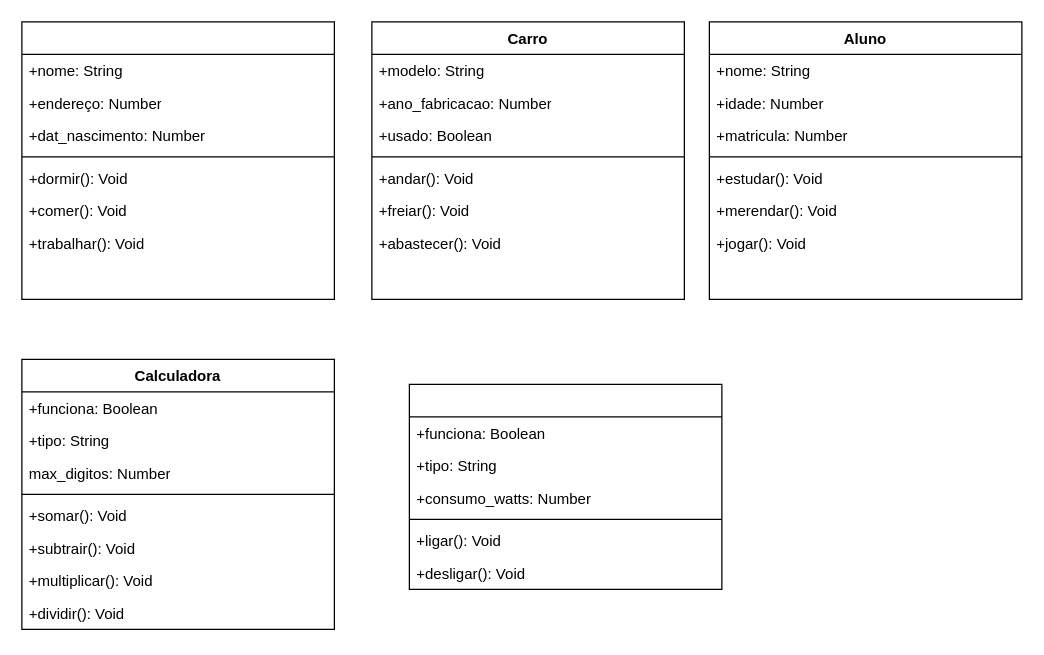
The diagram is 1044 pixels wide and 655 high, and some of its shapes have lost their labels. Each missing label, with the box of its shape:
Lâmpada: (408, 383, 722, 589)
Pessoa: (21, 21, 334, 299)
